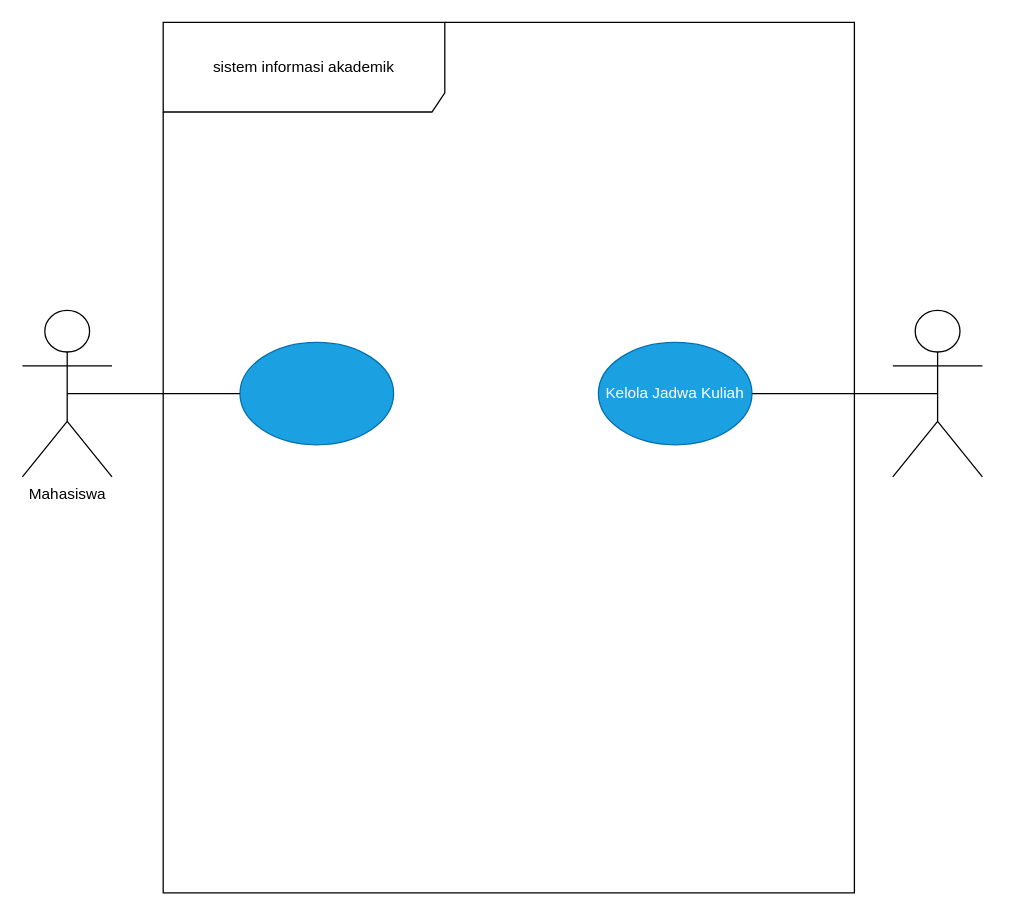
This 1016x915 diagram has some shape labels left out. The box of each missing label's shape, as (x1, y1, x2, y2) in pixels:
Admin akademik: (892, 309, 982, 477)
Lihat Jadwal Kuliah: (239, 341, 394, 445)
